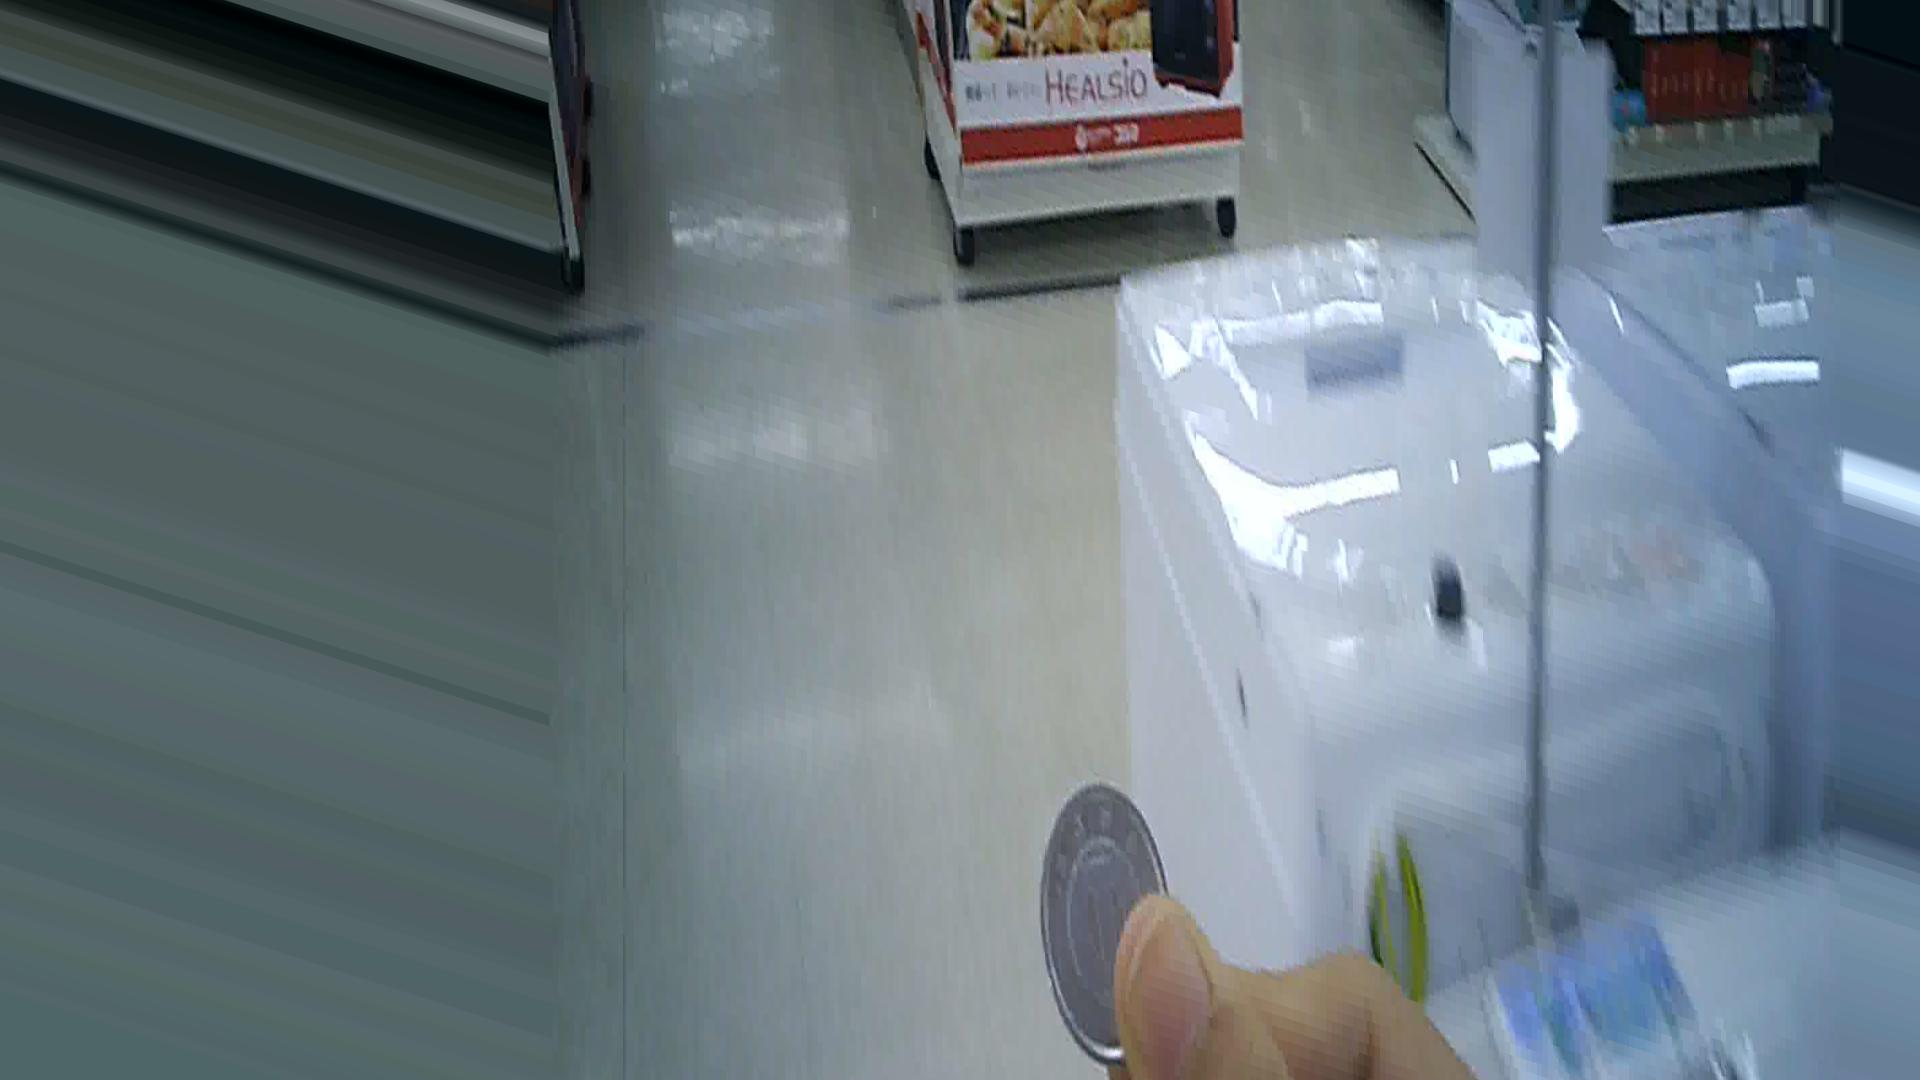1 Yen: (1011, 779, 1174, 1056)
